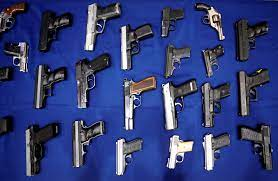gun: (119, 73, 160, 135), (32, 58, 69, 119), (238, 121, 277, 178), (237, 65, 275, 118), (199, 35, 228, 86), (111, 138, 147, 179), (166, 134, 196, 175)
